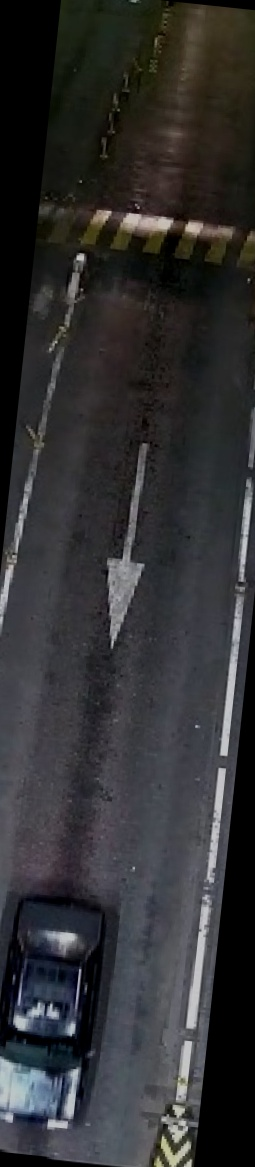car: (0, 880, 123, 1141)
